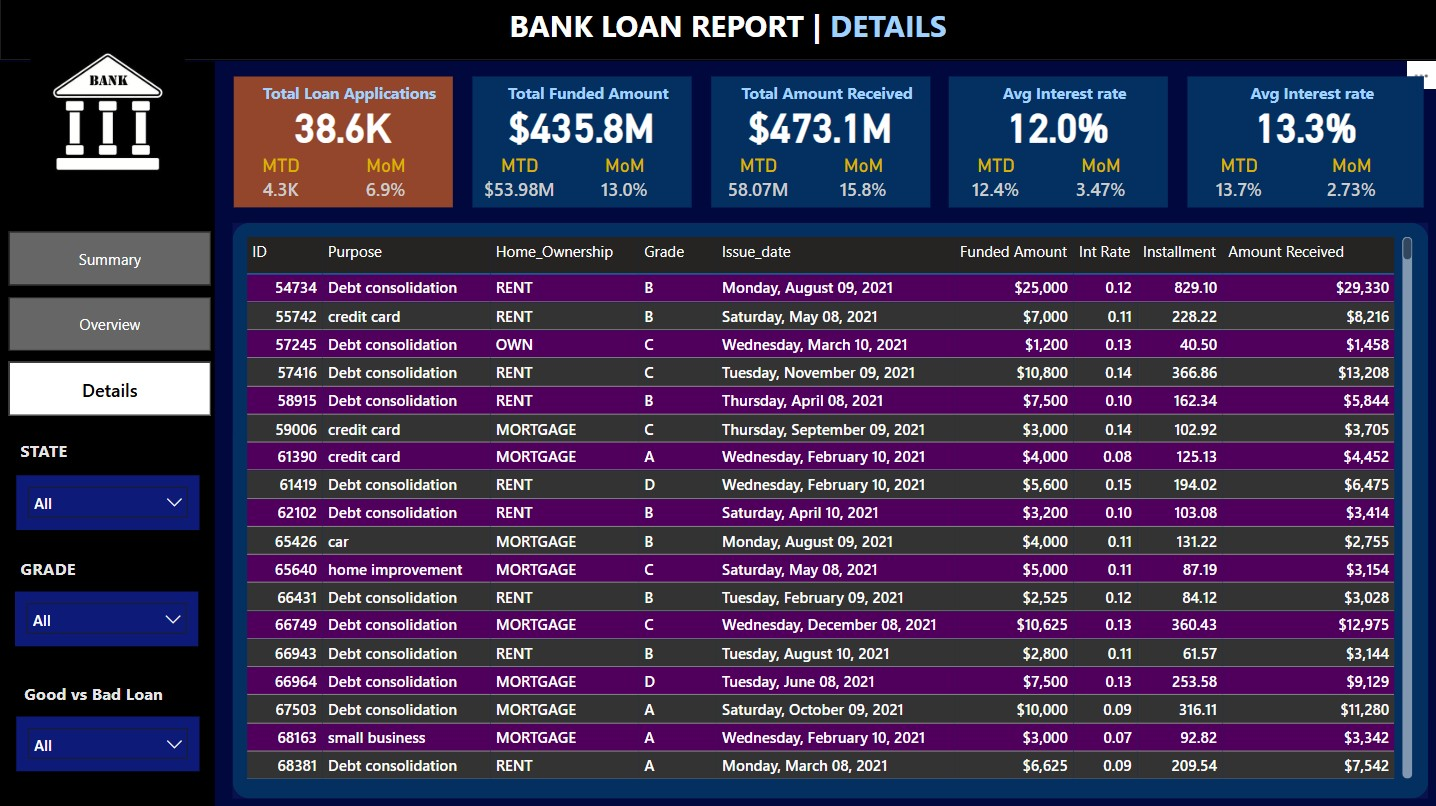

This screenshot's page, from the dashboard's own definition file:
{"tool":"powerbi","page":{"name":"Details","canvas":[1280,720],"ordinal":2},"visuals":[{"type":"shape","box":[207.4,198.8,1065,512.9],"z":0},{"type":"shape","box":[0,0,1279.8,55],"z":1000},{"type":"shape","box":[0,55.2,191.4,665],"z":2000},{"type":"textbox","box":[449.1,0,457.7,60.1],"z":3000},{"type":"shape","box":[208.6,68.7,195.1,116.6],"z":3000,"group":"g1"},{"type":"shape","box":[420.9,68.7,195.1,116.6],"z":3000,"group":"g2"},{"type":"shape","box":[633.1,68.7,195.1,116.6],"z":3000,"group":"g3"},{"type":"shape","box":[845.4,68.7,195.1,116.6],"z":3000,"group":"g4"},{"type":"shape","box":[1057.7,68.7,210.2,116.6],"z":3000,"group":"g5"},{"type":"group","id":"g1","title":"Group 1","box":[208.6,68.7,206.1,116.6],"z":4000},{"type":"card","fields":{"Values":["Bank Loan.Total Loan Application"]},"box":[213.5,68.7,185.3,85.9],"z":4000,"group":"g1"},{"type":"card","fields":{"Values":["Bank Loan.Total Funded Amount"]},"box":[425.8,68.7,185.3,85.9],"z":4000,"group":"g2"},{"type":"card","fields":{"Values":["Bank Loan.Total Amount Received"]},"box":[638,68.7,185.3,85.9],"z":4000,"group":"g3"},{"type":"card","fields":{"Values":["Bank Loan.Average Interest Rate"]},"box":[850.3,68.7,185.3,85.9],"z":4000,"group":"g4"},{"type":"card","fields":{"Values":["Bank Loan.Avg DTI"]},"box":[1063,68.7,199.6,85.9],"z":4000,"group":"g5"},{"type":"textbox","box":[208.6,68.7,206.1,38],"z":5000,"group":"g1"},{"type":"group","id":"g2","title":"Group 1","box":[420.9,68.7,206.1,116.6],"z":5000},{"type":"textbox","box":[420.9,68.7,206.1,38],"z":5000,"group":"g2"},{"type":"textbox","box":[633.1,68.7,206.1,38],"z":5000,"group":"g3"},{"type":"textbox","box":[845.4,68.7,206.1,38],"z":5000,"group":"g4"},{"type":"textbox","box":[1057.7,68.7,222.1,38],"z":5000,"group":"g5"},{"type":"group","id":"g3","title":"Group 1","box":[633.1,68.7,206.1,116.6],"z":6000},{"type":"card","title":"MTD","fields":{"Values":["Bank Loan.MTD Loan Applications"]},"box":[213.5,137.4,74.8,47.9],"z":6000,"group":"g1"},{"type":"card","title":"MTD","fields":{"Values":["Bank Loan.MTD Funded Amount"]},"box":[425.8,137.4,74.8,47.9],"z":6000,"group":"g2"},{"type":"card","title":"MTD","fields":{"Values":["Bank Loan.MTD Total Amount Received"]},"box":[638,137.4,74.8,47.9],"z":6000,"group":"g3"},{"type":"card","title":"MTD","fields":{"Values":["Bank Loan.MTD Avg Int Rate"]},"box":[850.3,137.4,74.8,47.9],"z":6000,"group":"g4"},{"type":"card","title":"MTD","fields":{"Values":["Bank Loan.MTD Avg DTI"]},"box":[1063,137.4,80.6,47.9],"z":6000,"group":"g5"},{"type":"group","id":"g4","title":"Group 1","box":[845.4,68.7,206.1,116.6],"z":7000},{"type":"card","title":"MoM","fields":{"Values":["Bank Loan.MOM Loan Application"]},"box":[306.8,137.4,74.8,47.9],"z":7001,"group":"g1"},{"type":"card","title":"MoM","fields":{"Values":["Bank Loan.MOM Total Funded Amount"]},"box":[519.1,137.4,74.8,47.9],"z":7001,"group":"g2"},{"type":"card","title":"MoM","fields":{"Values":["Bank Loan.MOM Total Amount Received"]},"box":[731.3,137.4,74.8,47.9],"z":7001,"group":"g3"},{"type":"card","title":"MoM","fields":{"Values":["Bank Loan.MOM Avg Int Rate"]},"box":[943.6,137.4,74.8,47.9],"z":7001,"group":"g4"},{"type":"card","title":"MoM","fields":{"Values":["Bank Loan.MOM DTI Rate"]},"box":[1163.5,137.4,80.6,47.9],"z":7001,"group":"g5"},{"type":"group","id":"g5","title":"Group 1","box":[1057.7,68.7,222.1,116.6],"z":8000},{"type":"slicer","fields":{"Values":["Bank Loan.address_state"]},"box":[14.7,424.5,163.2,49.1],"z":9000},{"type":"textbox","box":[13.5,387.7,63.8,35.6],"z":10000},{"type":"slicer","fields":{"Values":["Bank Loan.grade"]},"box":[13.5,527.6,163.2,49.1],"z":11000},{"type":"textbox","box":[13.5,492,76.1,35.6],"z":12000},{"type":"textbox","box":[17.2,603.7,143.6,35.6],"z":13000},{"type":"slicer","fields":{"Values":["Bank Loan.Good vs Bad Loan"]},"box":[14.7,639.3,163.2,49.1],"z":14000},{"type":"tableEx","fields":{"Values":["Bank Loan.id","Bank Loan.purpose","Bank Loan.home_ownership","Bank Loan.grade","Bank Loan.issue_date","Bank Loan.Total Funded Amount","Sum(Bank Loan.int_rate)","Sum(Bank Loan.installment)","Bank Loan.Total Amount Received"]},"box":[213.5,207.4,1049.1,492],"z":15000},{"type":"pageNavigator","box":[7.4,207.4,180.4,165.6],"z":16000},{"type":"image","box":[0,27,191.4,147.2],"z":17000}]}

Visuals, with their boxes in screenshot pixels (x1, y1, x2, y2), scaled from the page's 1280x720 canvas onto the 1436x806 screenshot:
shape: (233, 223, 1427, 797)
shape: (0, 0, 1435, 62)
shape: (0, 62, 215, 805)
textbox: (504, 0, 1017, 67)
shape: (234, 77, 453, 207)
shape: (472, 77, 691, 207)
shape: (710, 77, 929, 207)
shape: (948, 77, 1167, 207)
shape: (1187, 77, 1422, 207)
"Group 1" group: (234, 77, 465, 207)
card - Bank Loan.Total Loan Application: (240, 77, 447, 173)
card - Bank Loan.Total Funded Amount: (478, 77, 686, 173)
card - Bank Loan.Total Amount Received: (716, 77, 924, 173)
card - Bank Loan.Average Interest Rate: (954, 77, 1162, 173)
card - Bank Loan.Avg DTI: (1193, 77, 1416, 173)
textbox: (234, 77, 465, 119)
"Group 1" group: (472, 77, 703, 207)
textbox: (472, 77, 703, 119)
textbox: (710, 77, 941, 119)
textbox: (948, 77, 1180, 119)
textbox: (1187, 77, 1435, 119)
"Group 1" group: (710, 77, 941, 207)
"MTD" card: (240, 154, 323, 207)
"MTD" card: (478, 154, 562, 207)
"MTD" card: (716, 154, 800, 207)
"MTD" card: (954, 154, 1038, 207)
"MTD" card: (1193, 154, 1283, 207)
"Group 1" group: (948, 77, 1180, 207)
"MoM" card: (344, 154, 428, 207)
"MoM" card: (582, 154, 666, 207)
"MoM" card: (820, 154, 904, 207)
"MoM" card: (1059, 154, 1143, 207)
"MoM" card: (1305, 154, 1396, 207)
"Group 1" group: (1187, 77, 1435, 207)
slicer - Bank Loan.address_state: (16, 475, 200, 530)
textbox: (15, 434, 87, 474)
slicer - Bank Loan.grade: (15, 591, 198, 646)
textbox: (15, 551, 101, 591)
textbox: (19, 676, 180, 716)
slicer - Bank Loan.Good vs Bad Loan: (16, 716, 200, 771)
tableEx - Bank Loan.id x Bank Loan.purpose: (240, 232, 1416, 783)
pageNavigator: (8, 232, 211, 418)
image: (0, 30, 215, 195)
